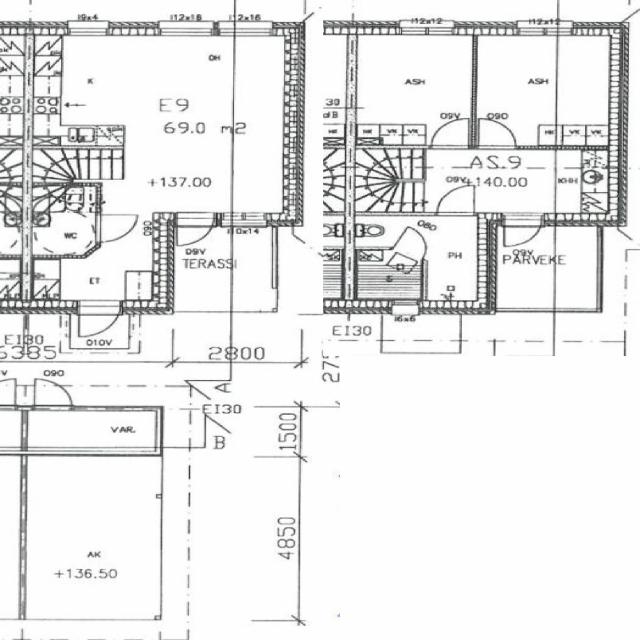door: (80, 300, 122, 345), (502, 213, 542, 254), (176, 212, 214, 254), (392, 228, 436, 263), (34, 378, 72, 411), (480, 117, 518, 149), (436, 186, 474, 217), (431, 118, 469, 149), (95, 215, 137, 242)
